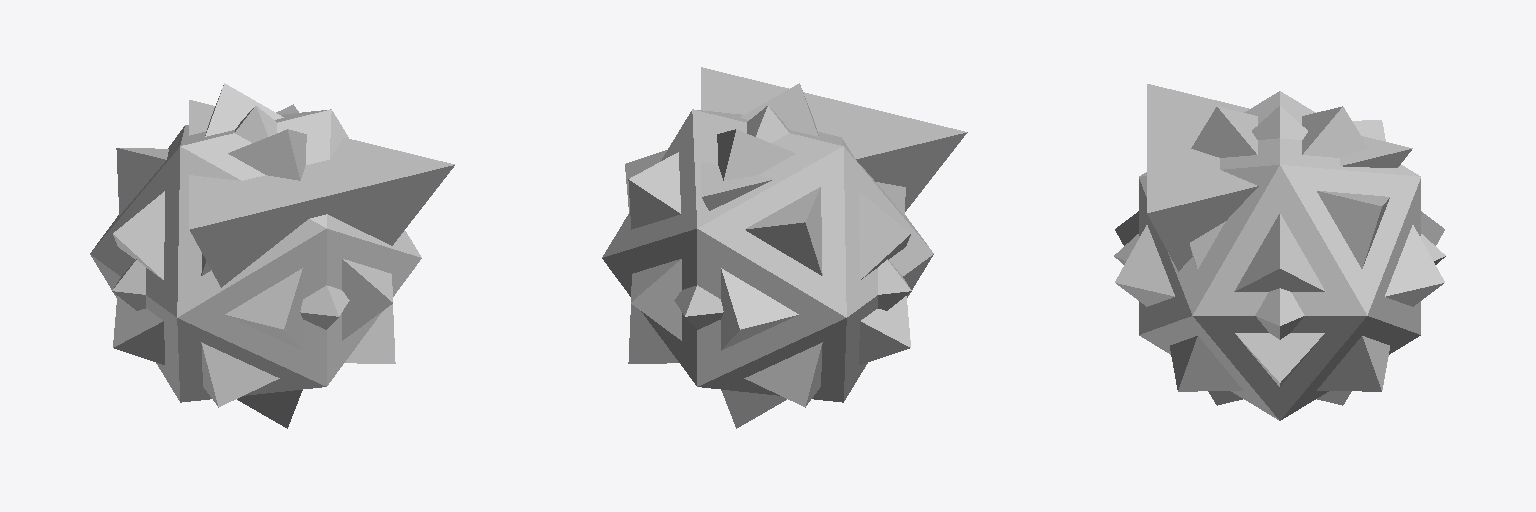
The model's file is nucleus.obj.
3 renders of one model, left to right at view 1: azimuth 30°, elevation 25°; view 2: azimuth 150°, elevation 25°; view 3: azimuth 270°, elevation 25°, orthographic.
Bounding box in the file's own units: 0.6249 × 0.6249 × 0.6249.